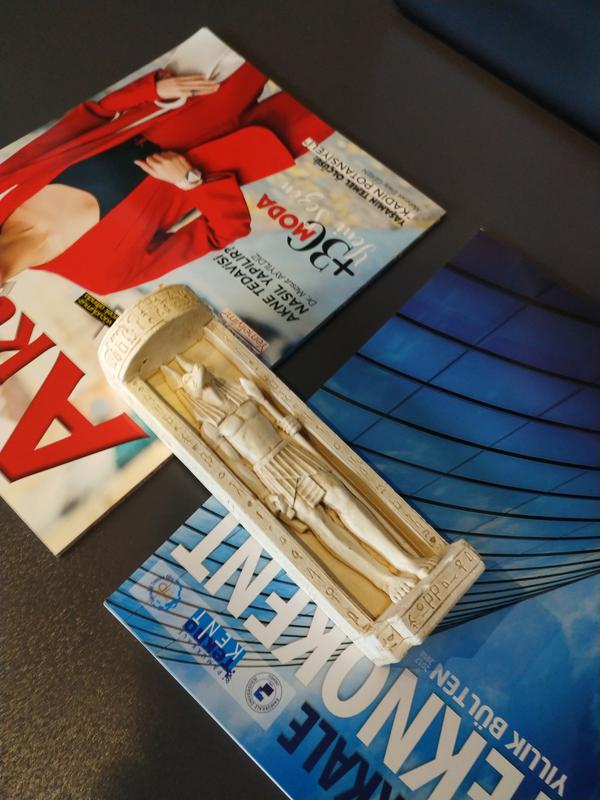heykel: (92, 278, 490, 674)
